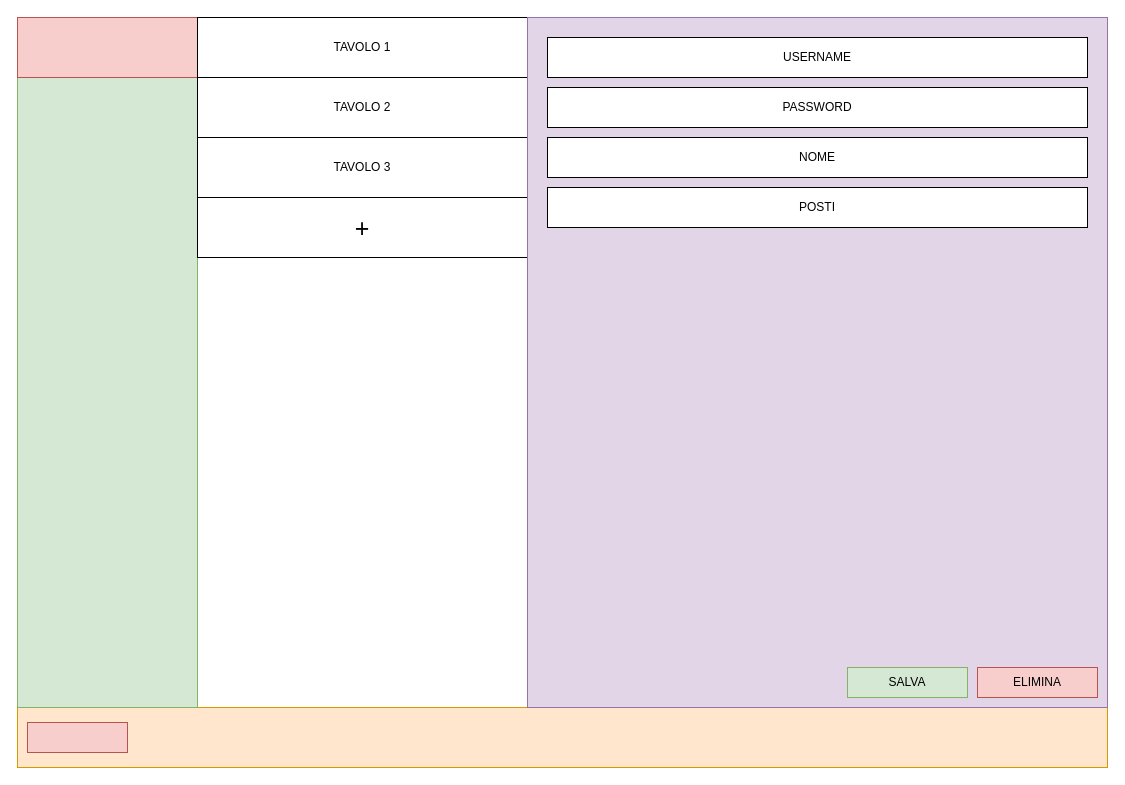
Some shapes in this 1125 by 785 pixel diagram are drawn without their labels. The centre of each missing label's shape, as x and y in pixels:
GESTIONE SALA: point 107,47
LOGOUT: point 77,737
